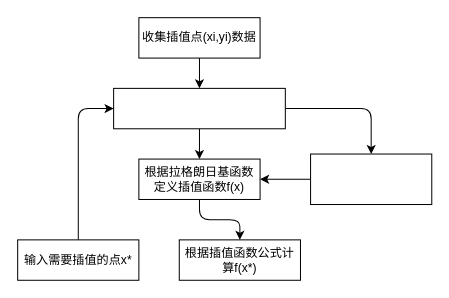
Image size: 449x298. Some labels were removed from this diagram. Here are the shapes that lost their labels. From the top down, the centre of each, then its label:
At point 199,108: "计算拉格朗日基函数li(x)".
At point 371,179: "计算x时各基函数li(x)的值".
